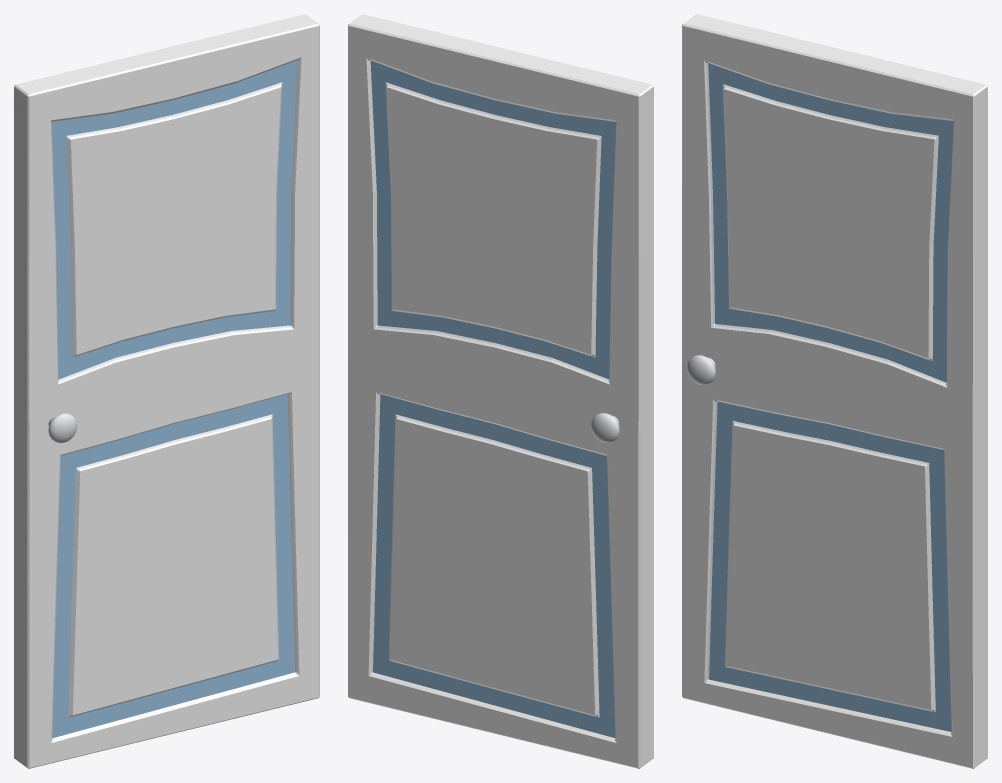
Rendered from Door.fbx.
The picture shows the model from 3 angles, left to right: view 1: azimuth 30°, elevation 25°; view 2: azimuth 150°, elevation 25°; view 3: azimuth 330°, elevation 25°; orthographic projection.
Visible parts, largest first — view 1: Door; view 2: Door; view 3: Door.
Boxes of the visible parts, x1,y1,x2,y2 form: Door: [14, 14, 319, 768]; Door: [348, 14, 653, 768]; Door: [682, 14, 987, 768].
Size of the model in its own units: 0.8523 by 1.88 by 0.1873.
